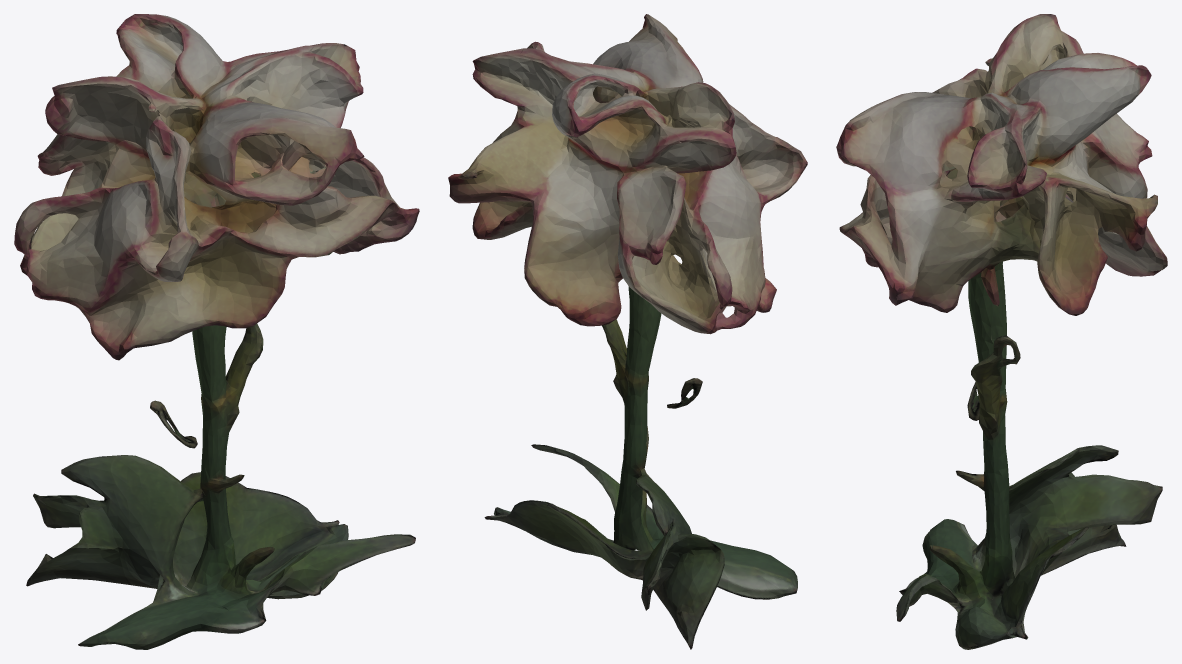
The picture shows the model from 3 angles, left to right: view 1: azimuth 30°, elevation 25°; view 2: azimuth 150°, elevation 25°; view 3: azimuth 270°, elevation 25°; orthographic projection. The views are drawn at different scales.
Parts seen in each view (by area): view 1: world; view 2: world; view 3: world.
Part boxes in pixels (x1,y1,x2,y2): world: (14, 14, 419, 649); world: (448, 14, 807, 649); world: (836, 14, 1167, 649).
Bounding box in the file's own units: 0.5589 × 0.9407 × 0.5185.
1 material, 1 textured.
